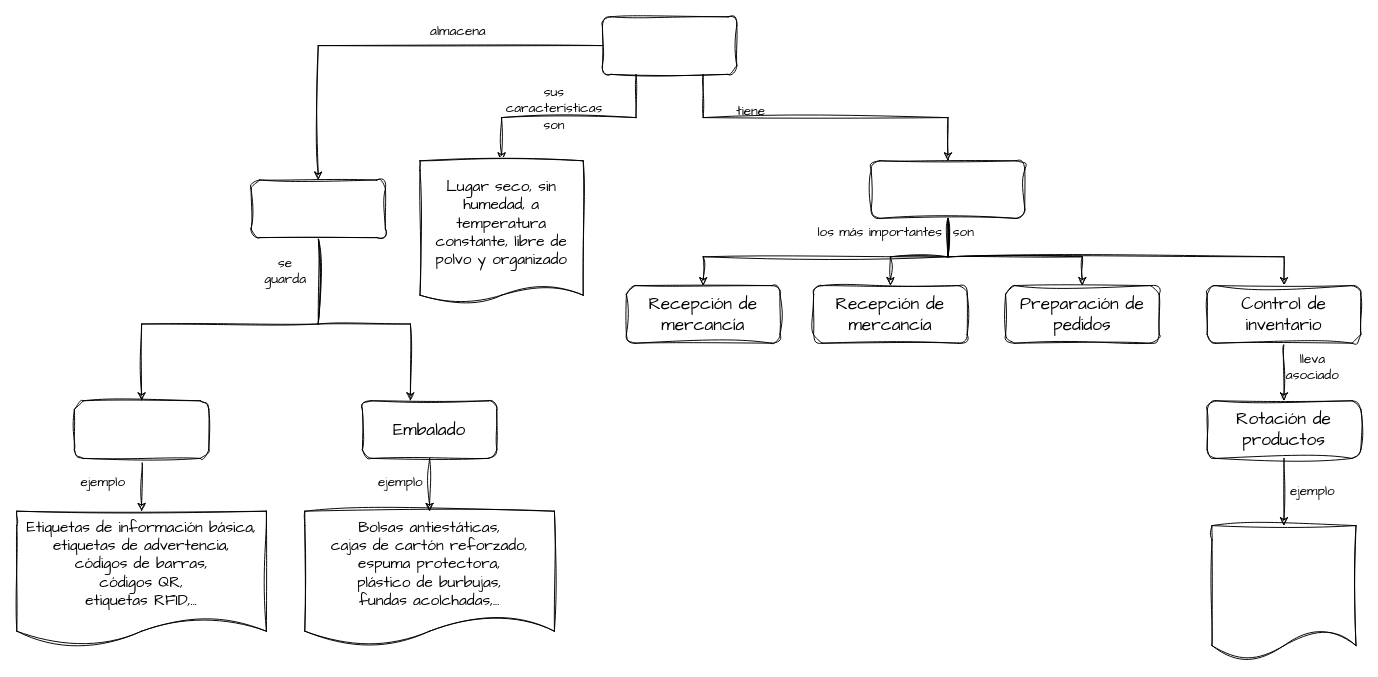
Image size: 1378x677. Some labels were removed from this diagram. The box of each missing label's shape, as (x1, y1, x2, y2) in pixels:
Almacen Informático: (601, 16, 737, 74)
Etiquetado: (73, 400, 209, 458)
FIFO, LIFO, FEFO,...: (1211, 525, 1356, 660)
Hardware Informático: (250, 179, 385, 238)
Procedimientos: (870, 160, 1025, 218)
